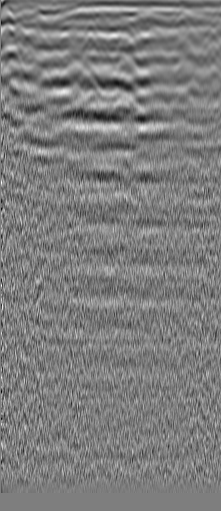오수: (16, 28, 38, 48)
우수: (169, 37, 195, 59)
